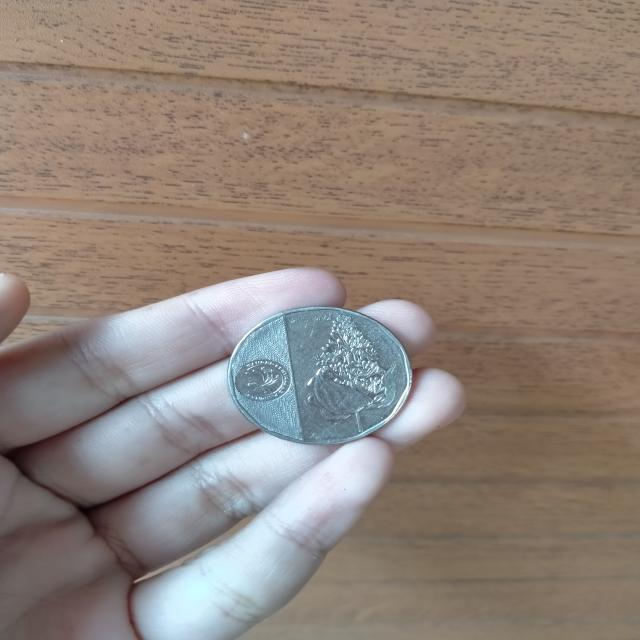10_New_Back: (296, 300, 407, 437)
